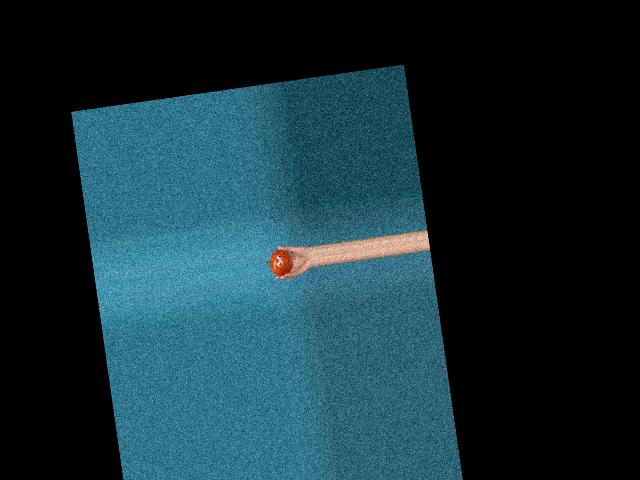tomato: (268, 247, 294, 277)
